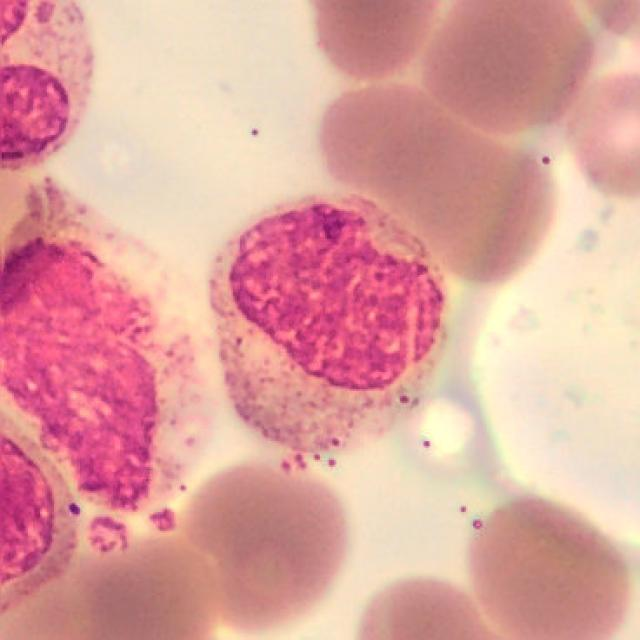Metamielocito: (207, 201, 450, 460)
